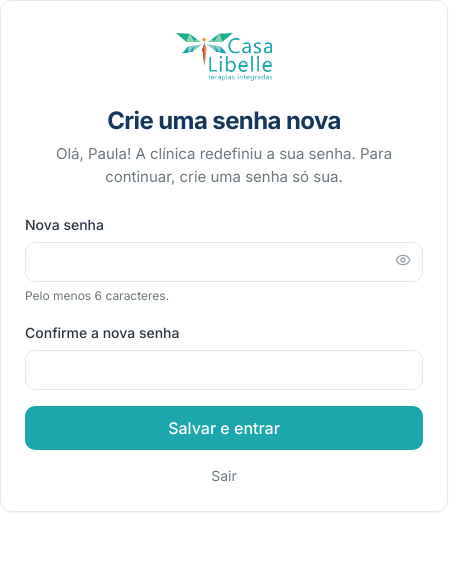
Scenario: a tela "Crie uma senha nova" › avisa quando as duas senhas não são iguais
The image size is (465, 565).
Type "minha-senha" into the password field labelled "Nova senha" at (224, 262), box [25,242,423,282]
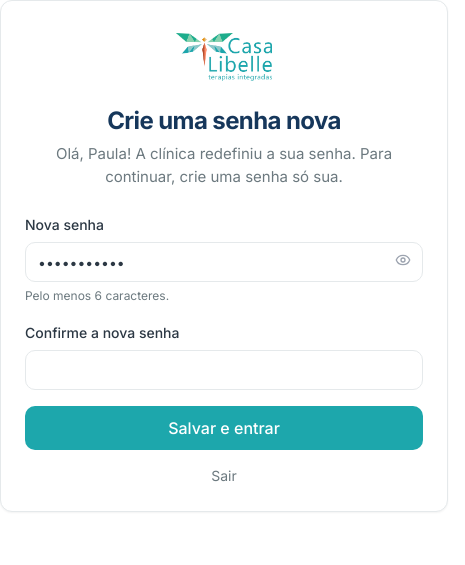
Type "minha-senhx" into the password field labelled "Confirme a nova senha" at (224, 370), box [25,350,423,390]
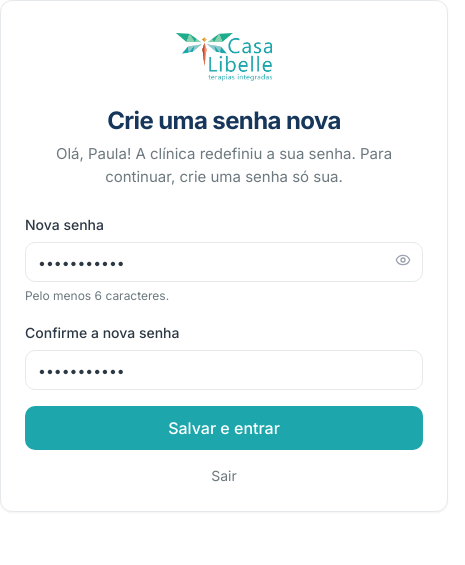
Click the button "Salvar e entrar" at (224, 428), box [25,406,423,450]
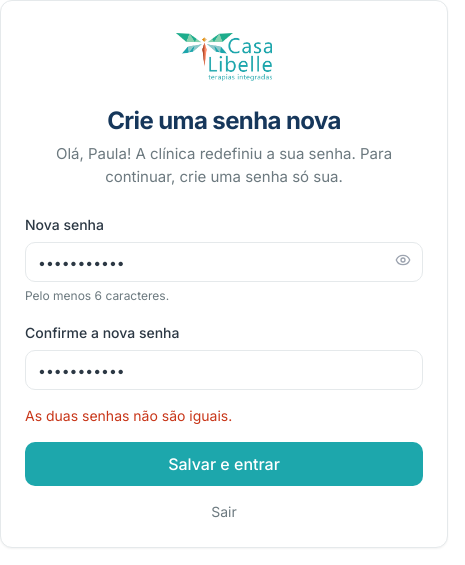
Check: the text "As duas senhas não são iguais." is shown, box [25,407,232,424]
